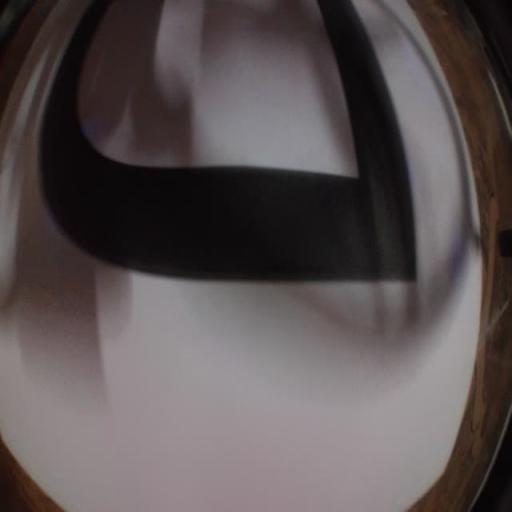B: (42, 0, 416, 282)
